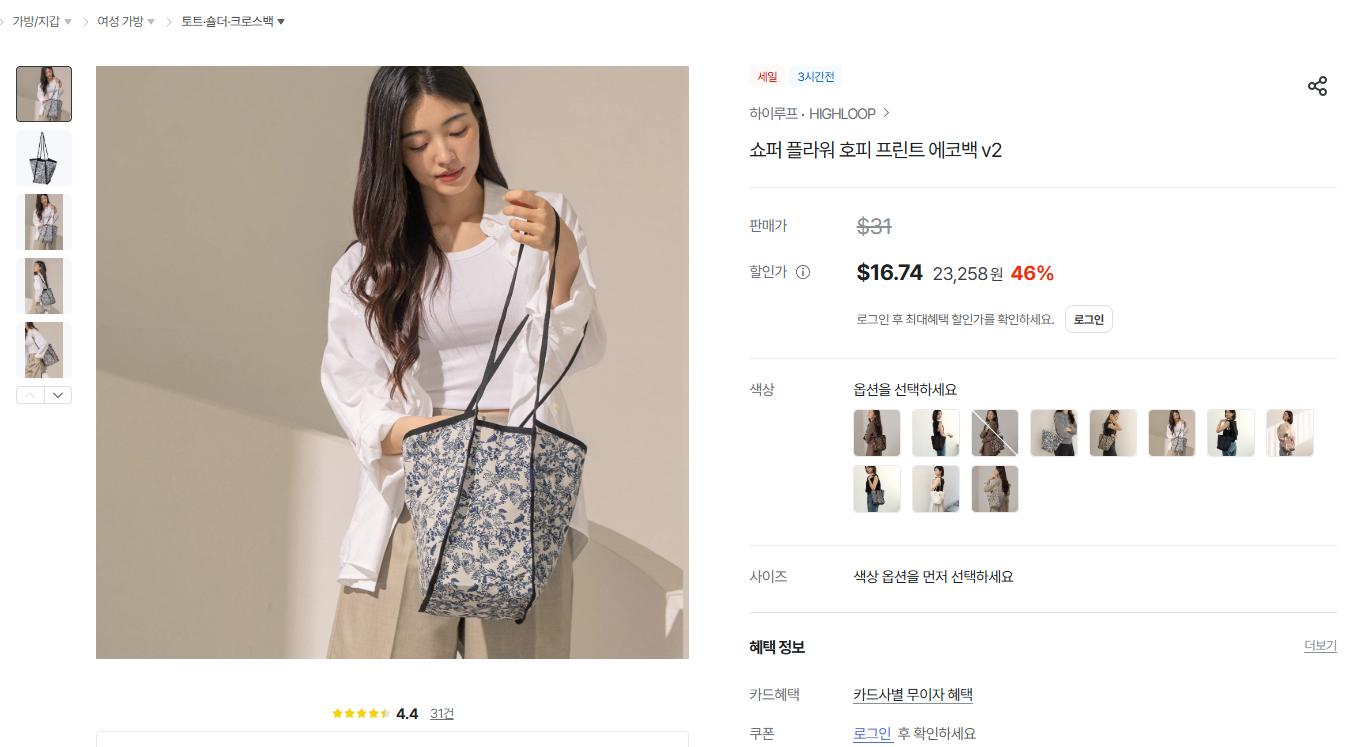button: (13, 257, 78, 317), (10, 323, 78, 380), (16, 63, 74, 124), (17, 196, 71, 254), (18, 133, 69, 189), (910, 462, 962, 513), (1208, 407, 1258, 458), (972, 458, 1018, 512), (853, 408, 902, 457), (848, 686, 978, 704), (974, 409, 1019, 460), (1269, 406, 1313, 458), (913, 407, 961, 454), (856, 467, 901, 516), (1092, 412, 1137, 458), (817, 99, 904, 122), (1032, 409, 1078, 452), (1153, 409, 1194, 456), (1069, 303, 1116, 329), (1304, 72, 1331, 106), (16, 387, 68, 404), (1301, 637, 1337, 652), (851, 727, 892, 740)
checkbox: (186, 14, 289, 29), (93, 11, 170, 29), (12, 11, 81, 30)
